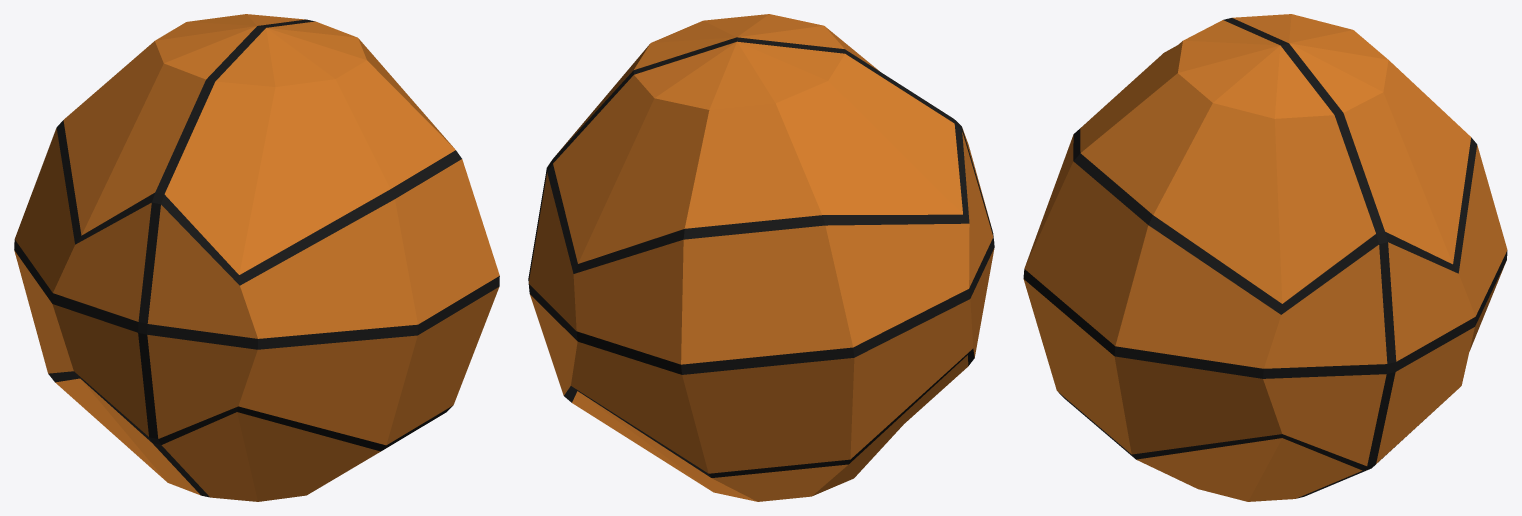
The model's file is basketball.fbx.
The picture shows the model from 3 angles, left to right: view 1: azimuth 30°, elevation 25°; view 2: azimuth 150°, elevation 25°; view 3: azimuth 270°, elevation 25°; orthographic projection.
Visible parts, largest first — view 1: Sphere; view 2: Sphere; view 3: Sphere.
Part boxes in pixels (<box>): Sphere: <box>14,14,499,501</box>; Sphere: <box>528,14,994,501</box>; Sphere: <box>1023,14,1507,501</box>.
Bounding box in the file's own units: 62.63 × 66.67 × 65.23.
